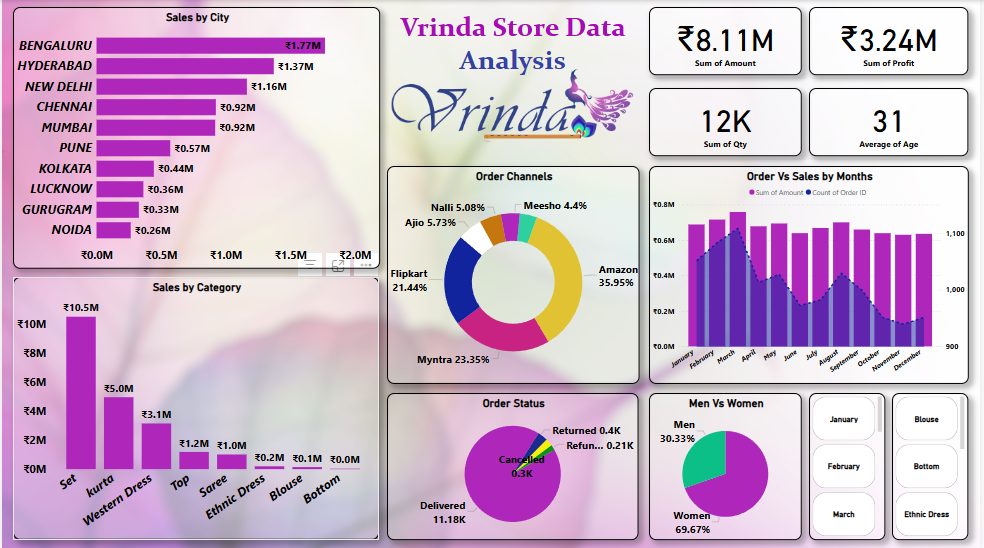

This screenshot's page, from the dashboard's own definition file:
{"tool":"powerbi","page":{"name":"Page 1","canvas":[1920,1080],"ordinal":0},"visuals":[{"type":"columnChart","title":"Sales by Category","fields":{"Category":["Vrinda Store.Category"],"Y":["Sum(Vrinda Store.Amount)"]},"box":[20.9,544.2,718.6,516.3],"z":0},{"type":"barChart","title":"Sales by City","fields":{"Y":["Sum(Vrinda Store.Amount)"],"Category":["Vrinda Store.ship-city"]},"box":[20.9,14,720.9,514],"z":1000},{"type":"donutChart","title":"Order Channels","fields":{"Category":["Vrinda Store.Channel "],"Y":["Sum(Vrinda Store.Amount)"]},"box":[756,326.2,495.9,427.6],"z":2000},{"type":"lineStackedColumnComboChart","title":"Order Vs Sales by Months","fields":{"Category":["Vrinda Store.Date.Variation.Date Hierarchy.Month"],"Y":["Sum(Vrinda Store.Amount)"],"Y2":["CountNonNull(Vrinda Store.Order ID)"]},"box":[1270,325,627.5,427.5],"z":3000},{"type":"textbox","box":[756,13.2,493.7,149.9],"z":4000},{"type":"pieChart","title":"Order Status","fields":{"Category":["Vrinda Store.Status"],"Y":["CountNonNull(Vrinda Store.Status)"]},"box":[756,771.4,493.7,288.7],"z":5000},{"type":"image","box":[756,121.2,493.7,171.9],"z":6000},{"type":"card","title":"Total Amount","fields":{"Values":["Sum(Vrinda Store.Profit)"]},"box":[1584.7,13.2,313,134.4],"z":7000},{"type":"card","title":"Delivery Status","fields":{"Values":["Sum(Vrinda Store.Qty)"]},"box":[1269.6,171.9,299.8,134.4],"z":8000},{"type":"pieChart","title":"Men Vs Women","fields":{"Y":["CountNonNull(Vrinda Store.Gender)"],"Category":["Vrinda Store.Gender"]},"box":[1269.6,771.4,299.8,288.7],"z":9000},{"type":"card","title":"Total Amount","fields":{"Values":["Sum(Vrinda Store.Amount)"]},"box":[1269.6,13.2,299.8,134.4],"z":10000},{"type":"card","title":"Total Amount","fields":{"Values":["Avg(Vrinda Store.Age)"]},"box":[1584.7,171.9,313,134.4],"z":11000},{"type":"advancedSlicerVisual","title":"Men Vs Women","fields":{"Values":["Vrinda Store.Date.Variation.Date Hierarchy.Month"]},"box":[1584.7,771.4,150,288.7],"z":12000},{"type":"advancedSlicerVisual","title":"Men Vs Women","fields":{"Values":["Vrinda Store.Category"]},"box":[1747.8,771.4,149.9,288.7],"z":13000}]}

Visuals, with their boxes in screenshot pixels (x1, y1, x2, y2), scaled from the page's 1920x1080 canvas onto the 984x548 screenshot:
"Sales by Category" columnChart: region(11, 276, 379, 538)
"Sales by City" barChart: region(11, 7, 380, 268)
"Order Channels" donutChart: region(387, 166, 642, 382)
"Order Vs Sales by Months" lineStackedColumnComboChart: region(651, 165, 972, 382)
textbox: region(387, 7, 640, 83)
"Order Status" pieChart: region(387, 391, 640, 538)
image: region(387, 61, 640, 149)
"Total Amount" card: region(812, 7, 973, 75)
"Delivery Status" card: region(651, 87, 804, 155)
"Men Vs Women" pieChart: region(651, 391, 804, 538)
"Total Amount" card: region(651, 7, 804, 75)
"Total Amount" card: region(812, 87, 973, 155)
"Men Vs Women" advancedSlicerVisual: region(812, 391, 889, 538)
"Men Vs Women" advancedSlicerVisual: region(896, 391, 973, 538)
